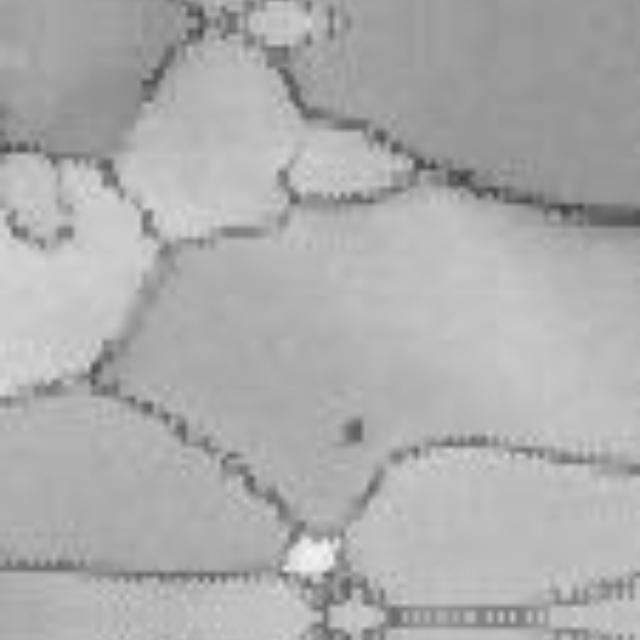good_void: (339, 411, 375, 448)
